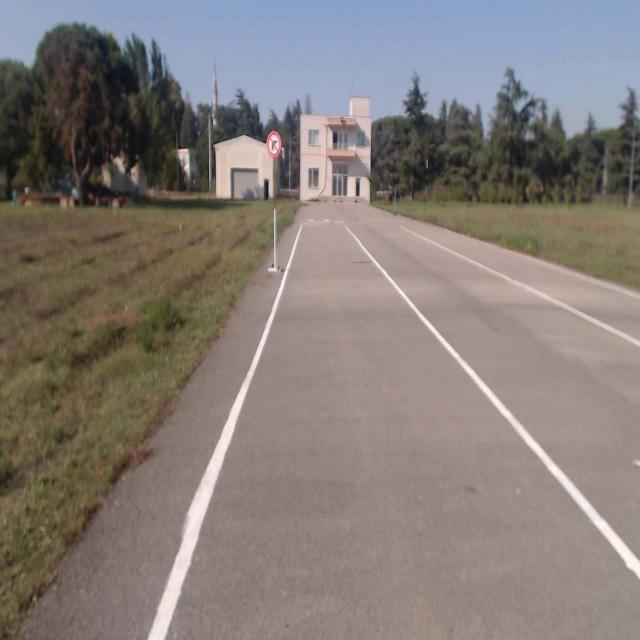sagadonulmez: (266, 131, 280, 157)
